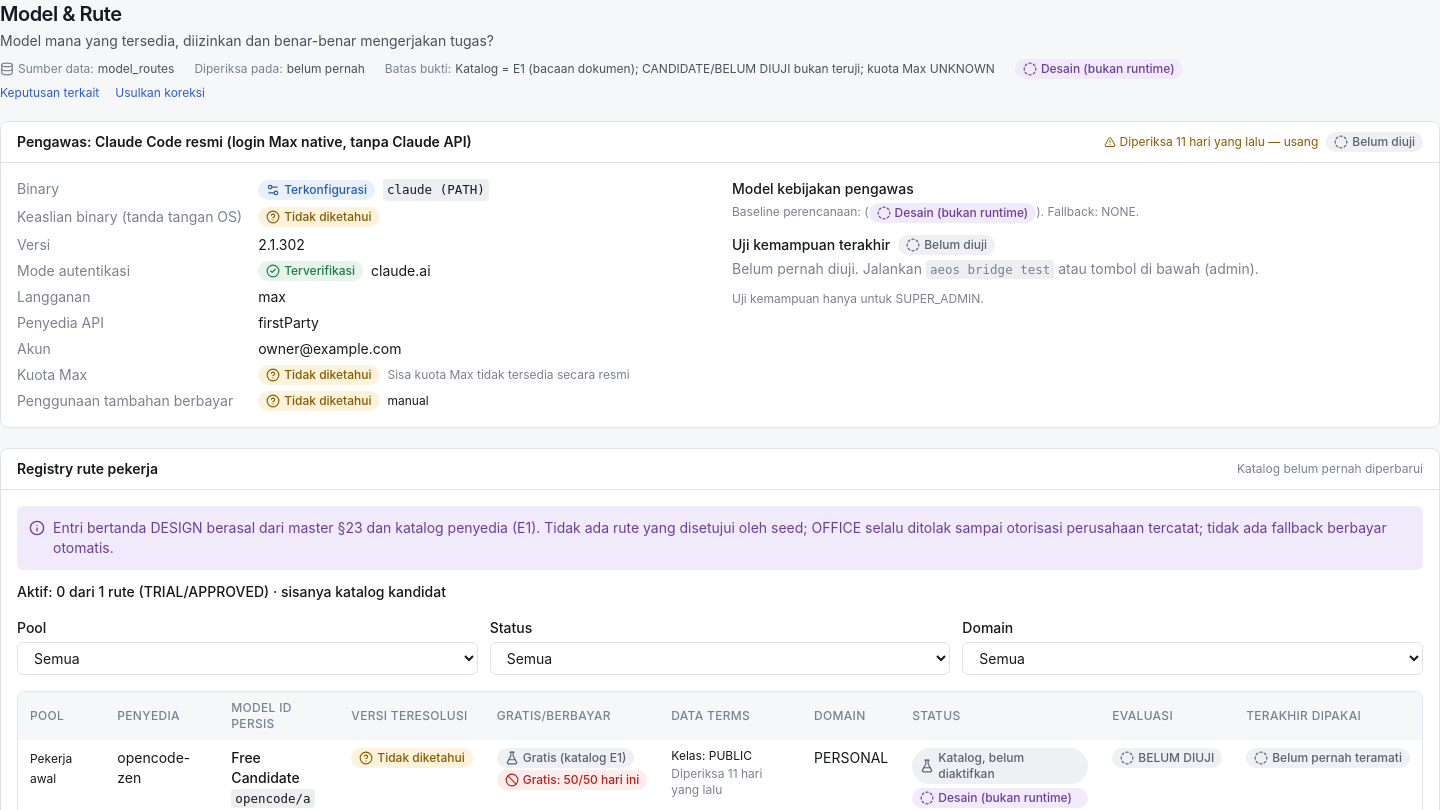
Scenario: Models & Routes: honest active status (R28) › flags a free-tier limit that is reached
Click the text "Free Candidate": (266, 767) [231,749,300,786]
(page scrolled)
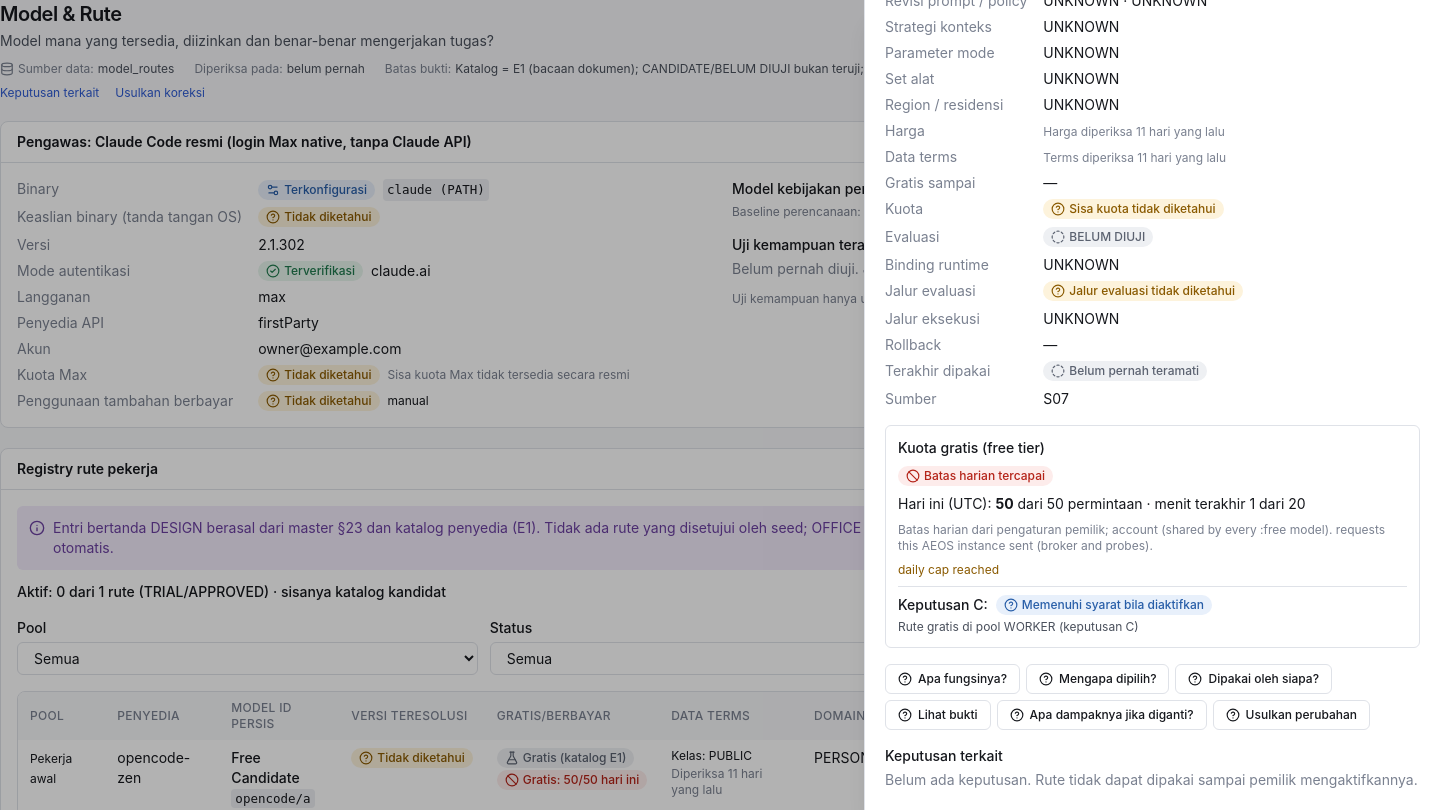
Expected: the text "Batas harian tercapai" is shown, [924,468,1045,484]
